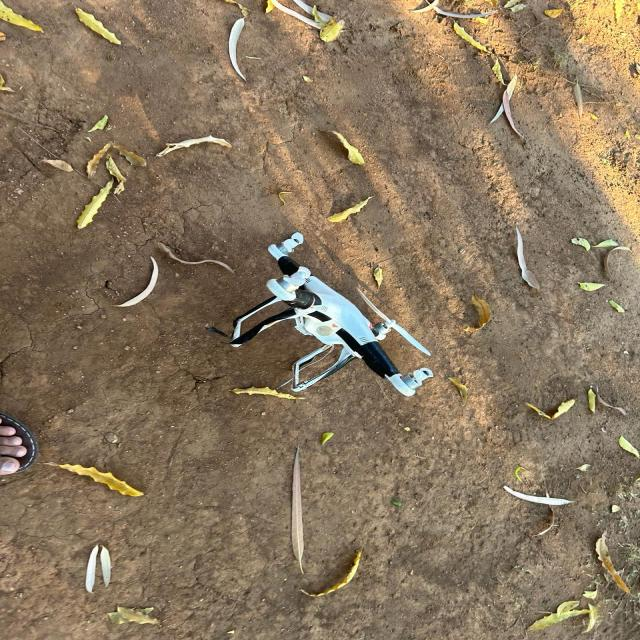drone: (178, 212, 490, 445)
